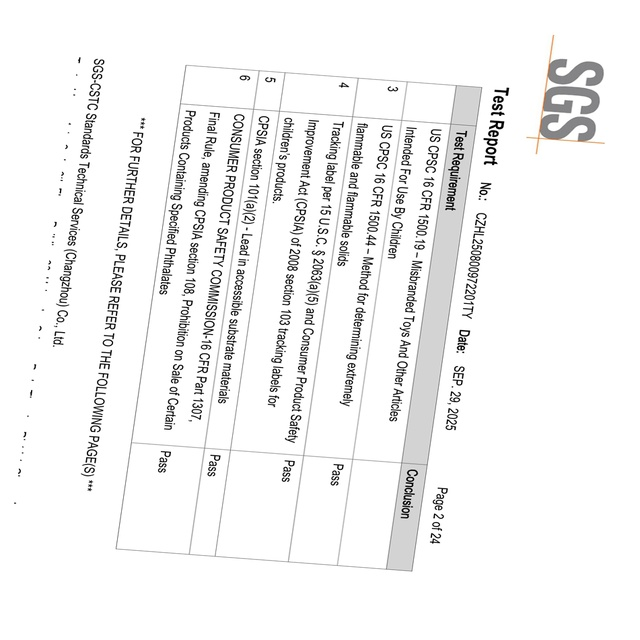sgs: (541, 58, 604, 140)
